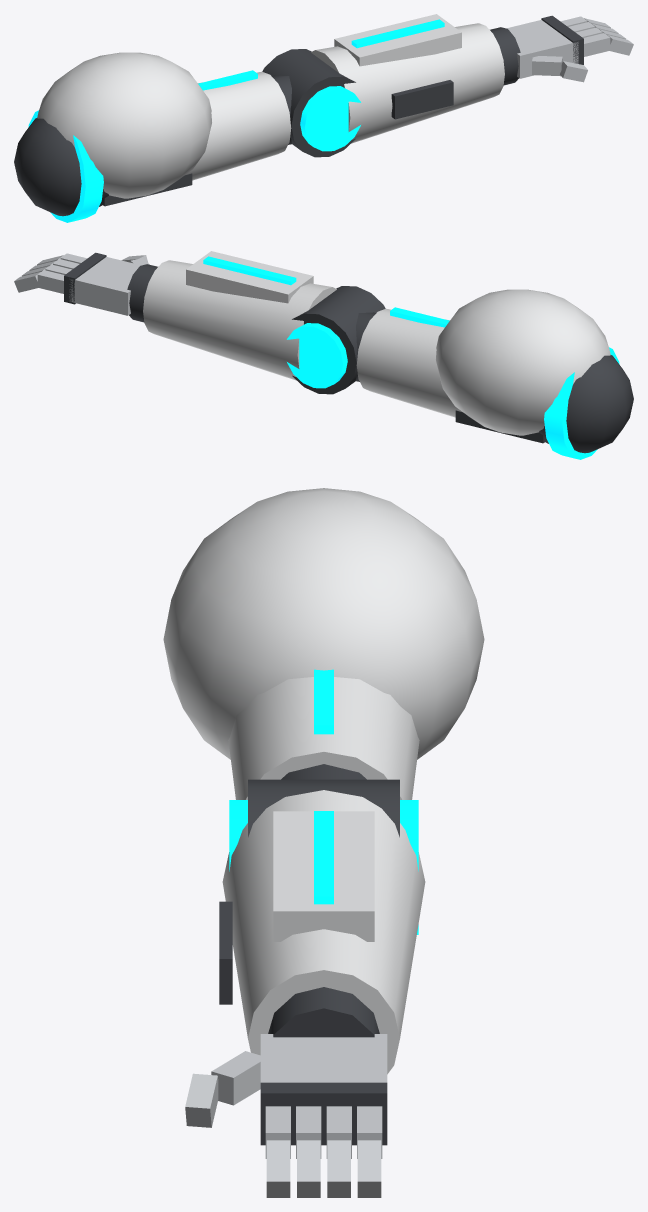
Rendered from FV_ArmModule_L.fbx.
The picture shows the model from 3 angles, top to bottom: view 1: azimuth 30°, elevation 25°; view 2: azimuth 150°, elevation 25°; view 3: azimuth 270°, elevation 25°; orthographic projection. The views are drawn at different scales.
Parts seen in each view (by area): view 1: ArmModule_L; view 2: ArmModule_L; view 3: ArmModule_L.
Part boxes in pixels (<box>): ArmModule_L: <box>14,14,633,222</box>; ArmModule_L: <box>14,251,633,459</box>; ArmModule_L: <box>163,488,484,1197</box>.
Size of the model in its own units: 0.8177 by 0.185 by 0.19.
